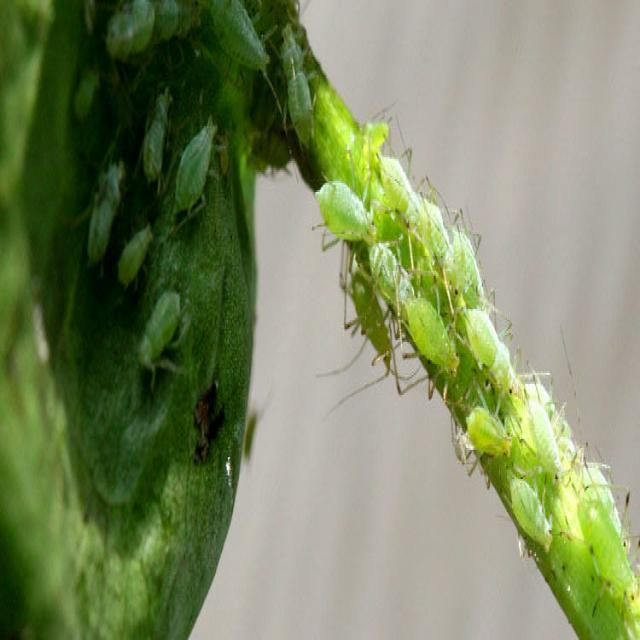Aphids: (307, 84, 640, 627), (75, 82, 223, 404), (103, 5, 272, 88), (276, 5, 322, 160)
